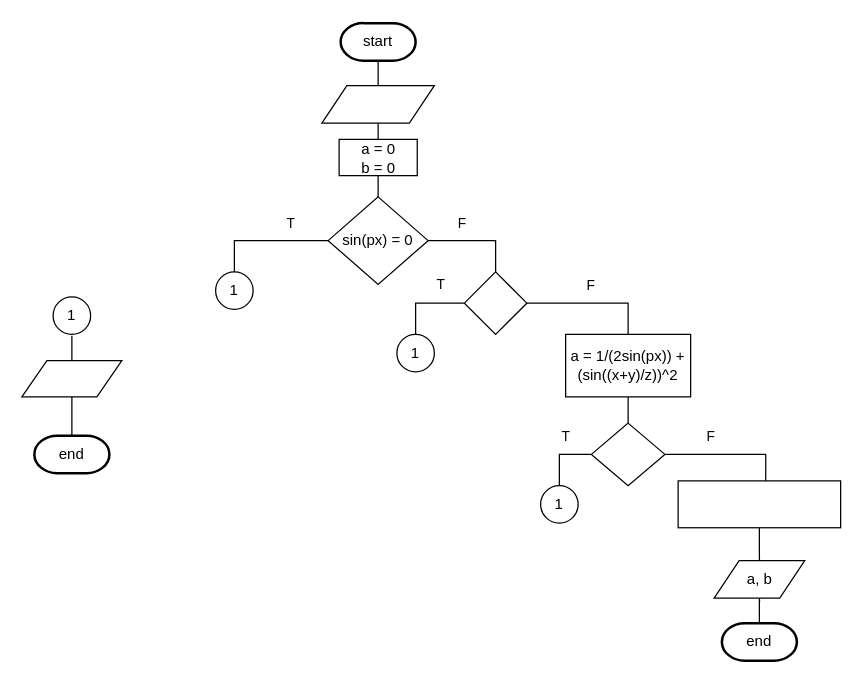
Image size: 863x683. Some labels were removed from this diagram. The shapes that lost their labels are listed below. From the top down, each one's centre as x and y in pixels, then its label:
At point 377,103: "x, y, z є R".
At point 495,302: "z =0".
At point 71,378: "Error".
At point 627,454: "y =0".
At point 759,504: "b = cos(a^2 * x)/(2*y*z)".
